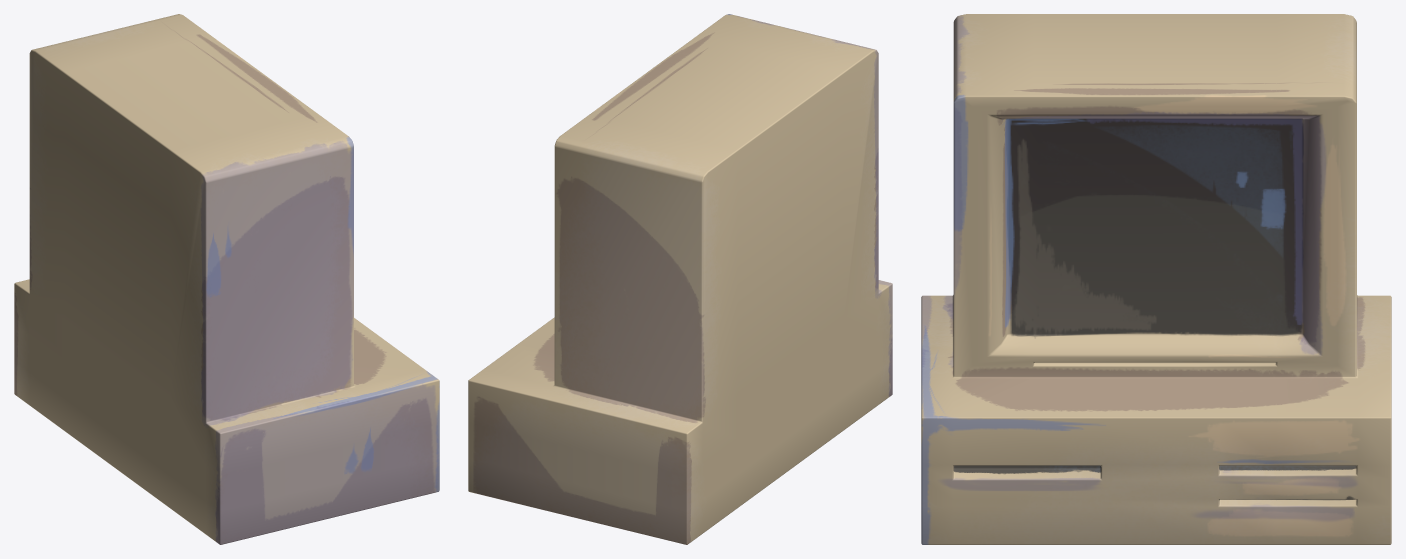
The picture shows the model from 3 angles, left to right: view 1: azimuth 30°, elevation 25°; view 2: azimuth 150°, elevation 25°; view 3: azimuth 270°, elevation 25°; orthographic projection. The views are drawn at different scales.
Visible parts, largest first — view 1: PC.001; view 2: PC.001; view 3: PC.001.
Boxes of the visible parts, x1=… form: PC.001: x1=14, y1=14, x2=439, y2=544; PC.001: x1=468, y1=14, x2=892, y2=544; PC.001: x1=921, y1=14, x2=1391, y2=544.
Size of the model in its own units: 46.71 by 72.9 by 75.84.
